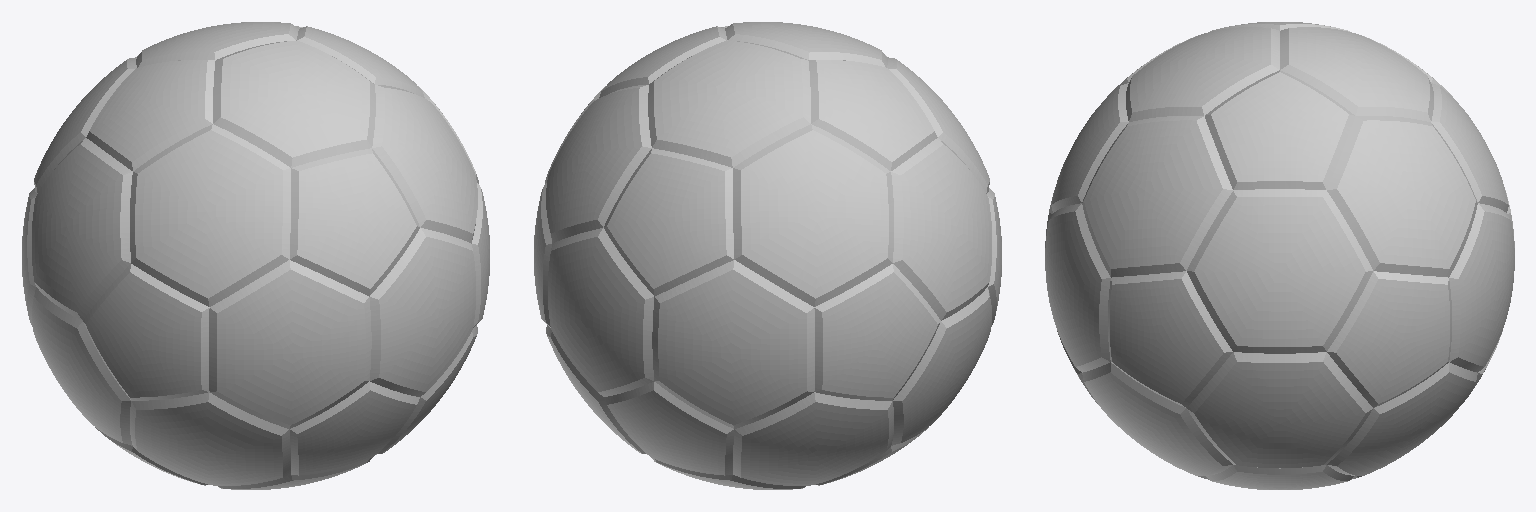
Rendered from PlayerCharacter.obj.
3 views of the same model, side by side, from view 1: azimuth 30°, elevation 25°; view 2: azimuth 150°, elevation 25°; view 3: azimuth 270°, elevation 25° (orthographic).
Visible parts, largest first — view 1: Solid.001; view 2: Solid.001; view 3: Solid.001.
Part boxes in pixels (bbox=[...]): Solid.001: bbox=[22, 22, 489, 489]; Solid.001: bbox=[534, 22, 1001, 489]; Solid.001: bbox=[1045, 22, 1514, 489].
Bounding box in the file's own units: 1 × 1 × 1.